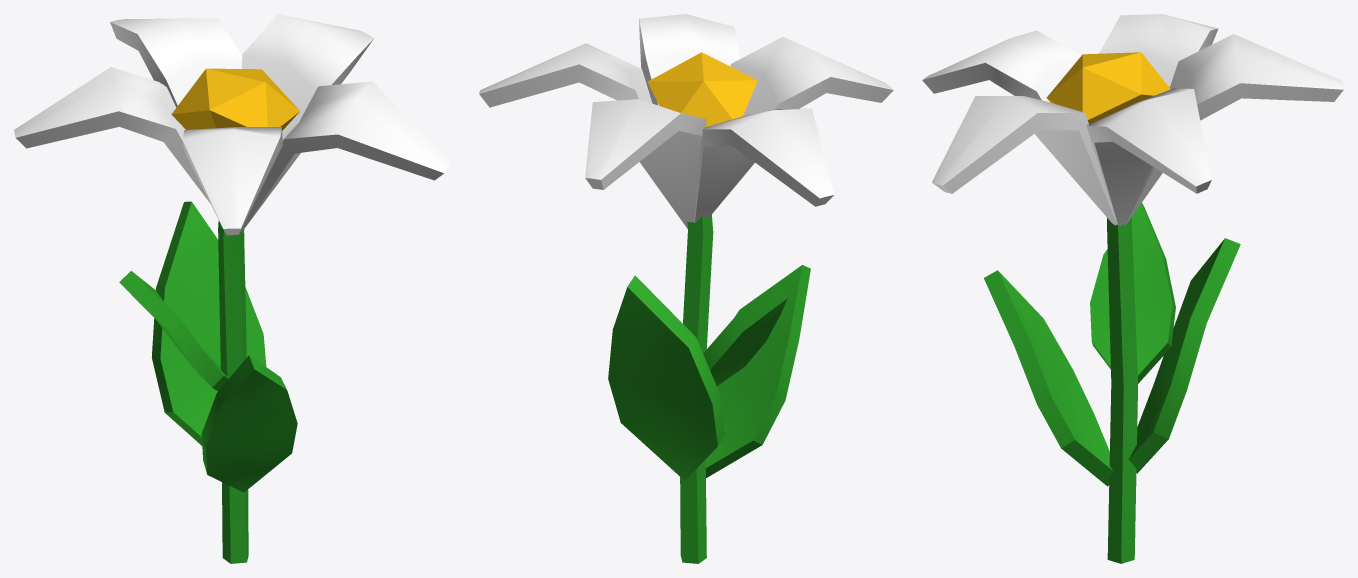
File: daisy.obj
The picture shows the model from 3 angles, left to right: view 1: azimuth 30°, elevation 25°; view 2: azimuth 150°, elevation 25°; view 3: azimuth 270°, elevation 25°; orthographic projection.
Visible parts, largest first — view 1: daisy pPlane9, pasted__group daisy pasted__group2 pasted__pPlane14, daisy pasted__pPlane9, pasted__group daisy pasted__pPlane11 pasted__group2, pasted__group daisy pasted__group2 pasted__pPlane13, pasted__group daisy pasted__group2 pasted__pPlane15, pasted__group daisy pasted__group2 pasted__pPlane12, pasted__group daisy pasted__pPlatonic6, pasted__pasted__pasted__pCylinder1 pasted__group daisy, daisy pPlane10; view 2: daisy pPlane9, pasted__group daisy pasted__pPlane11 pasted__group2, pasted__group daisy pasted__group2 pasted__pPlane12, daisy pasted__pPlane9, pasted__group daisy pasted__group2 pasted__pPlane15, pasted__pasted__pasted__pCylinder1 pasted__group daisy, pasted__group daisy pasted__group2 pasted__pPlane13, pasted__group daisy pasted__pPlatonic6, pasted__group daisy pasted__group2 pasted__pPlane14, daisy pPlane10; view 3: pasted__group daisy pasted__group2 pasted__pPlane13, pasted__group daisy pasted__group2 pasted__pPlane14, pasted__pasted__pasted__pCylinder1 pasted__group daisy, daisy pasted__pPlane9, pasted__group daisy pasted__group2 pasted__pPlane12, daisy pPlane9, daisy pPlane10, pasted__group daisy pasted__group2 pasted__pPlane15, pasted__group daisy pasted__pPlatonic6, pasted__group daisy pasted__pPlane11 pasted__group2.
Part boxes in pixels (x1,y1,x2,y2): daisy pPlane9: [151, 201, 266, 445]; pasted__group daisy pasted__group2 pasted__pPlane14: [241, 81, 450, 231]; daisy pasted__pPlane9: [201, 355, 297, 492]; pasted__group daisy pasted__pPlane11 pasted__group2: [14, 67, 210, 203]; pasted__group daisy pasted__group2 pasted__pPlane13: [242, 14, 374, 140]; pasted__group daisy pasted__group2 pasted__pPlane15: [182, 127, 282, 235]; pasted__group daisy pasted__group2 pasted__pPlane12: [110, 18, 242, 107]; pasted__group daisy pasted__pPlatonic6: [171, 68, 299, 130]; pasted__pasted__pasted__pCylinder1 pasted__group daisy: [218, 220, 248, 563]; daisy pPlane10: [119, 271, 229, 391]; daisy pPlane9: [608, 275, 724, 480]; pasted__group daisy pasted__pPlane11 pasted__group2: [694, 108, 834, 223]; pasted__group daisy pasted__group2 pasted__pPlane12: [585, 99, 706, 228]; daisy pasted__pPlane9: [705, 265, 810, 477]; pasted__group daisy pasted__group2 pasted__pPlane15: [730, 37, 893, 116]; pasted__pasted__pasted__pCylinder1 pasted__group daisy: [680, 214, 713, 563]; pasted__group daisy pasted__group2 pasted__pPlane13: [479, 43, 652, 107]; pasted__group daisy pasted__pPlatonic6: [648, 52, 757, 126]; pasted__group daisy pasted__group2 pasted__pPlane14: [639, 14, 739, 105]; daisy pPlane10: [703, 284, 787, 385]; pasted__group daisy pasted__group2 pasted__pPlane13: [1086, 88, 1211, 225]; pasted__group daisy pasted__group2 pasted__pPlane14: [932, 96, 1117, 225]; pasted__pasted__pasted__pCylinder1 pasted__group daisy: [1107, 217, 1137, 563]; daisy pasted__pPlane9: [984, 270, 1112, 486]; pasted__group daisy pasted__group2 pasted__pPlane12: [1125, 34, 1343, 225]; daisy pPlane9: [1128, 238, 1240, 473]; daisy pPlane10: [1090, 203, 1175, 383]; pasted__group daisy pasted__group2 pasted__pPlane15: [922, 30, 1080, 102]; pasted__group daisy pasted__pPlatonic6: [1046, 52, 1170, 124]; pasted__group daisy pasted__pPlane11 pasted__group2: [1099, 14, 1218, 87].
Size of what is drawn, in the model's own units: 1.27 by 1.7 by 1.28.
